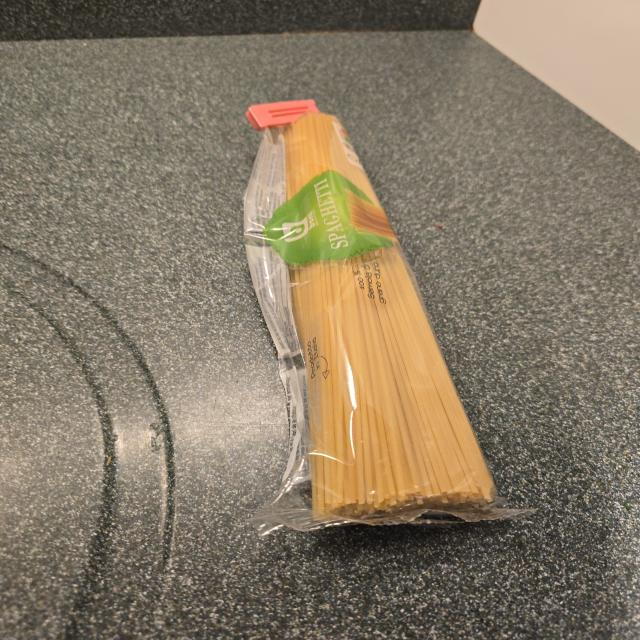Pasta: (244, 100, 531, 534)
